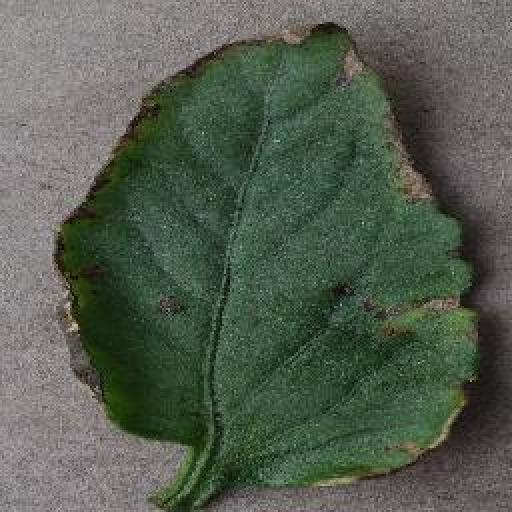Bacterial Spot: (49, 17, 484, 492)
